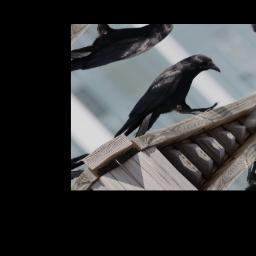Crow: (91, 47, 243, 160)
